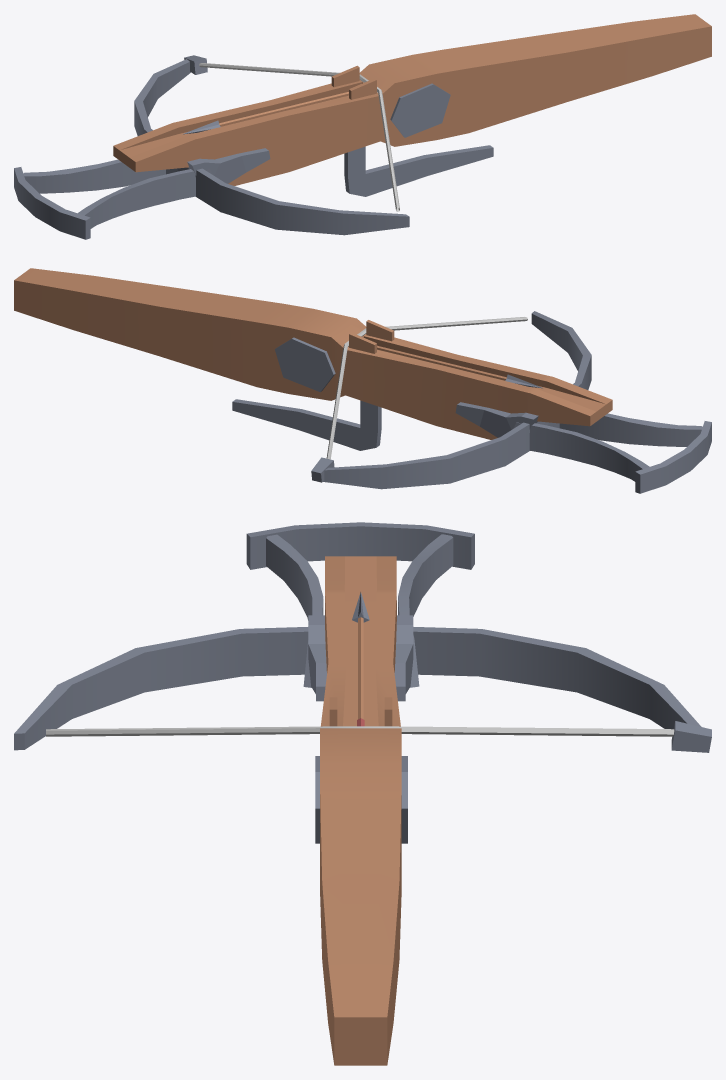
Rendered from crossbow.fbx.
3 views of the same model, one above another, from view 1: azimuth 30°, elevation 25°; view 2: azimuth 150°, elevation 25°; view 3: azimuth 270°, elevation 25° (orthographic). The views are drawn at different scales.
Parts seen in each view (by area): view 1: polySurface16; view 2: polySurface16; view 3: polySurface16.
Part boxes in pixels (x1=…): polySurface16: x1=14, y1=14, x2=711, y2=239; polySurface16: x1=14, y1=268, x2=711, y2=493; polySurface16: x1=14, y1=522, x2=711, y2=1065.
Size of the model in its own units: 12.34 by 2.15 by 7.02.
